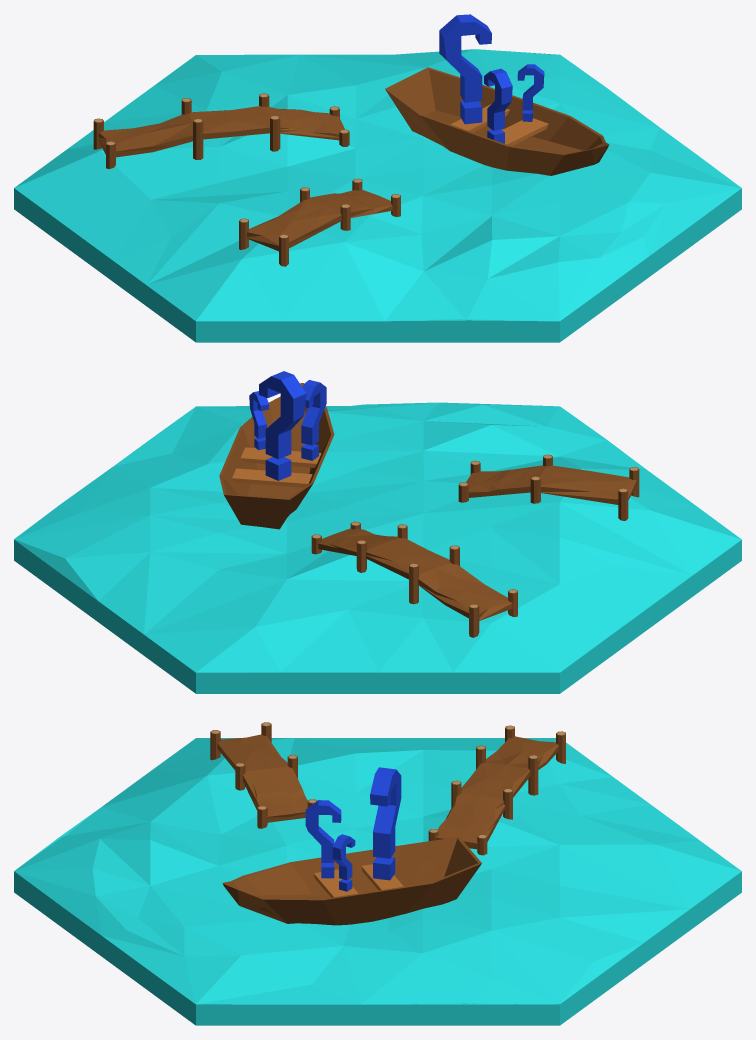
File: randomPort.fbx
The picture shows the model from 3 angles, top to bottom: view 1: azimuth 30°, elevation 25°; view 2: azimuth 150°, elevation 25°; view 3: azimuth 270°, elevation 25°; orthographic projection.
Visible parts, largest first — view 1: Cylinder.010; view 2: Cylinder.010; view 3: Cylinder.010.
Part boxes in pixels (x1,y1,x2,y2): Cylinder.010: (14,14,741,342); Cylinder.010: (14,371,741,693); Cylinder.010: (14,722,741,1025).
Bounding box in the file's own units: 173 × 50.29 × 200.
